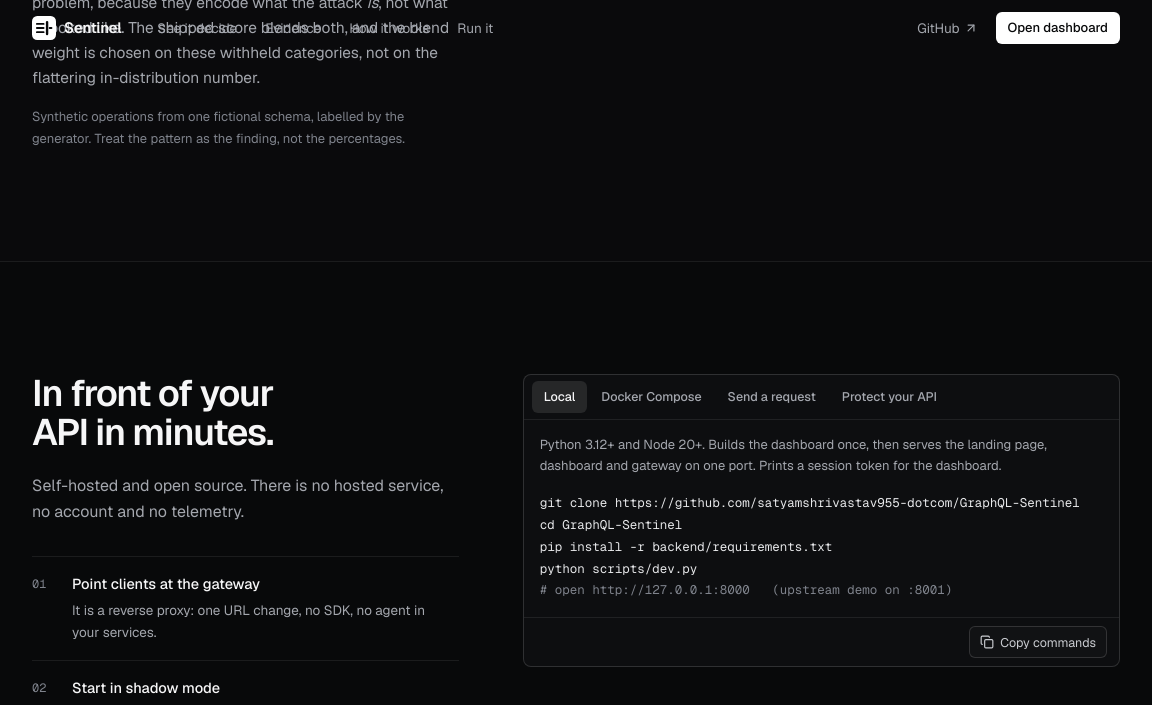
Test: landing page and navigation › quick start tabs switch and the copy button copies the shown commands
(page scrolled)
What coordinates should you click on to do the following:
click the tab "Send a request"
I would click on:
 (772, 397)
Its box is top-left (716, 381), bottom-right (828, 413).
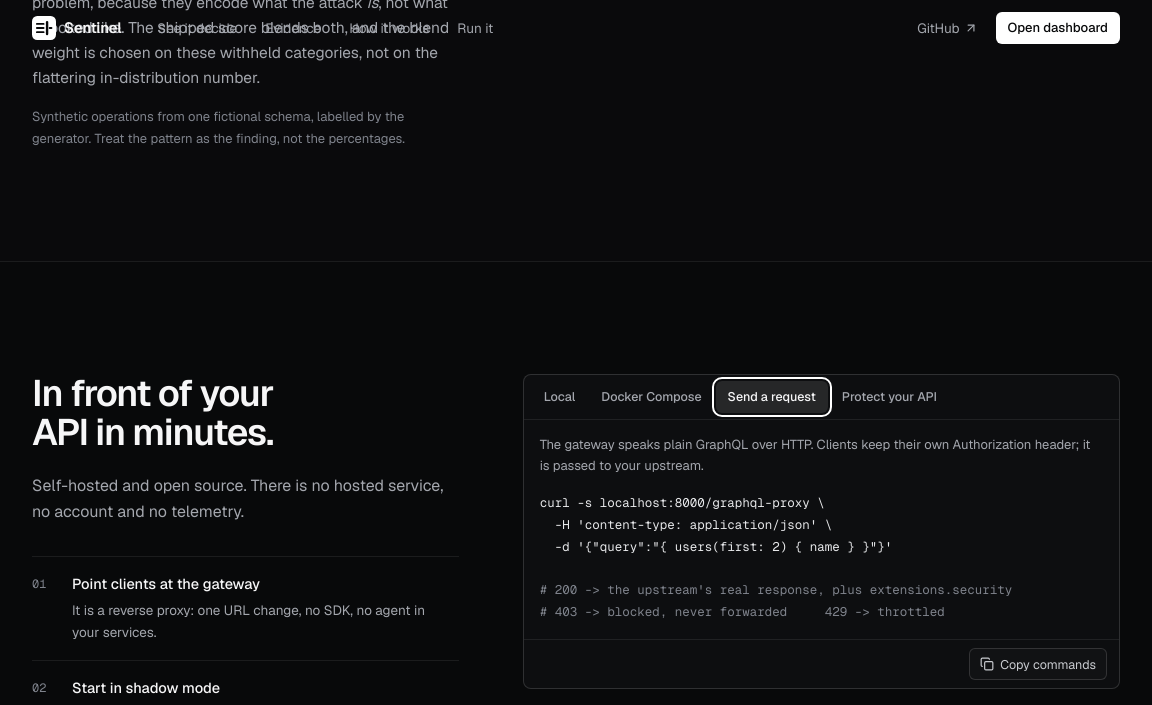
What coordinates should you click on to do the following:
click the button with aria-label "copy commands to clipboard"
I would click on:
 (1038, 664)
Its box is top-left (969, 648), bottom-right (1107, 680).
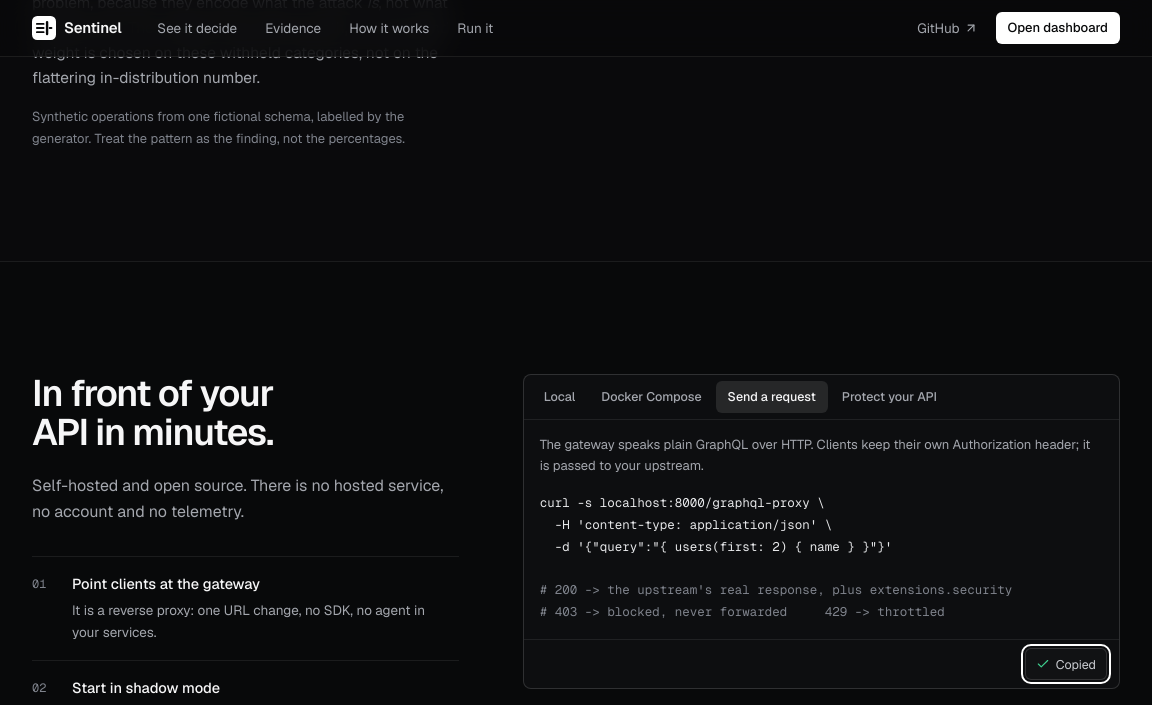
Expected: the text "Copied" is shown, top-left (1056, 654), bottom-right (1096, 674)
